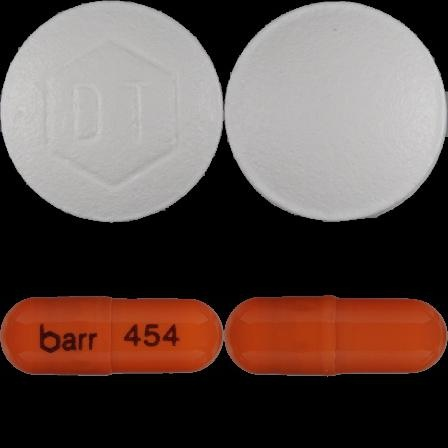54868-6183: (0, 0, 224, 224)
